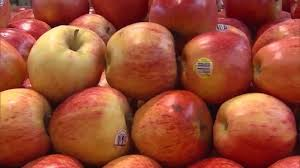apple: (132, 88, 212, 160), (49, 85, 128, 153), (216, 95, 297, 160), (30, 26, 102, 96), (106, 22, 179, 91), (180, 30, 253, 90), (1, 89, 48, 158), (255, 23, 300, 91)
